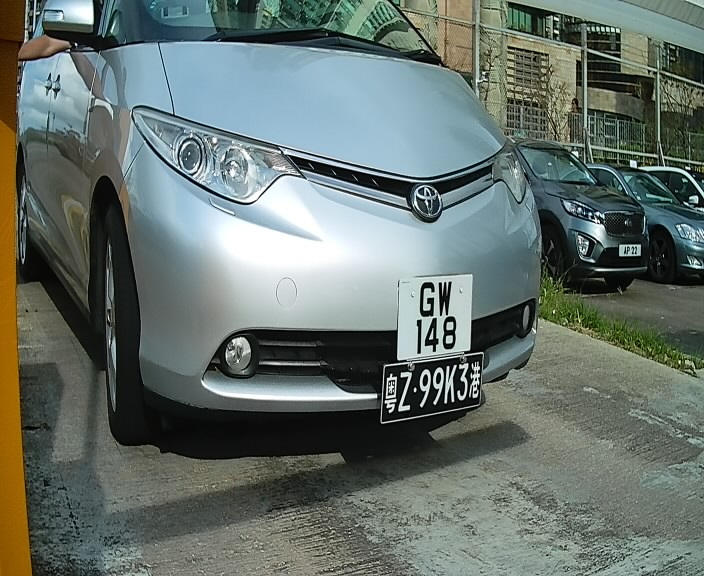Car: (2, 2, 578, 483)
License Plate: (376, 265, 486, 372)
